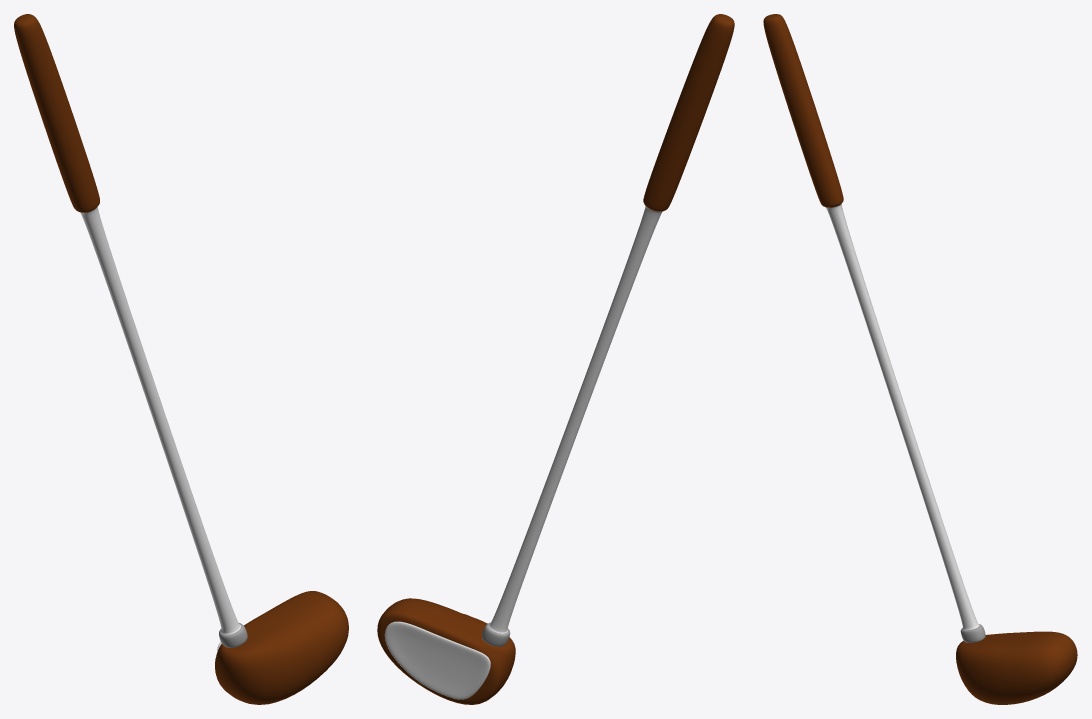
The model's file is stick.glb.
3 views of the same model, side by side, from view 1: azimuth 30°, elevation 25°; view 2: azimuth 150°, elevation 25°; view 3: azimuth 330°, elevation 25° (orthographic). The views are drawn at different scales.
Parts seen in each view (by area): view 1: Palo_3; view 2: Palo_3; view 3: Palo_3.
Part boxes in pixels (<box>): Palo_3: <box>14,14,348,704</box>; Palo_3: <box>377,14,734,704</box>; Palo_3: <box>763,14,1077,704</box>.
Size of the model in its own units: 0.5345 by 1.13 by 0.1025.
